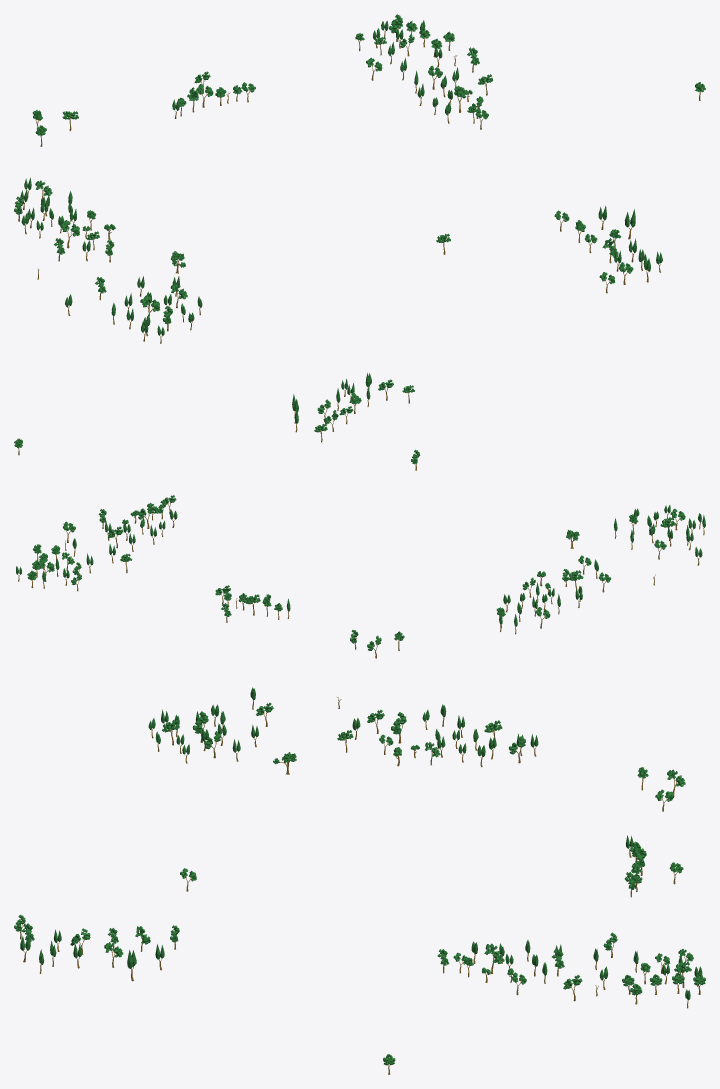
Rendered from trees.fbx.
The picture shows the model from 3 angles, top to bottom: view 1: azimuth 30°, elevation 25°; view 2: azimuth 150°, elevation 25°; view 3: azimuth 270°, elevation 25°; orthographic projection. The views are drawn at different scales.
Bounding box in the file's own units: 987 × 47.12 × 781.
